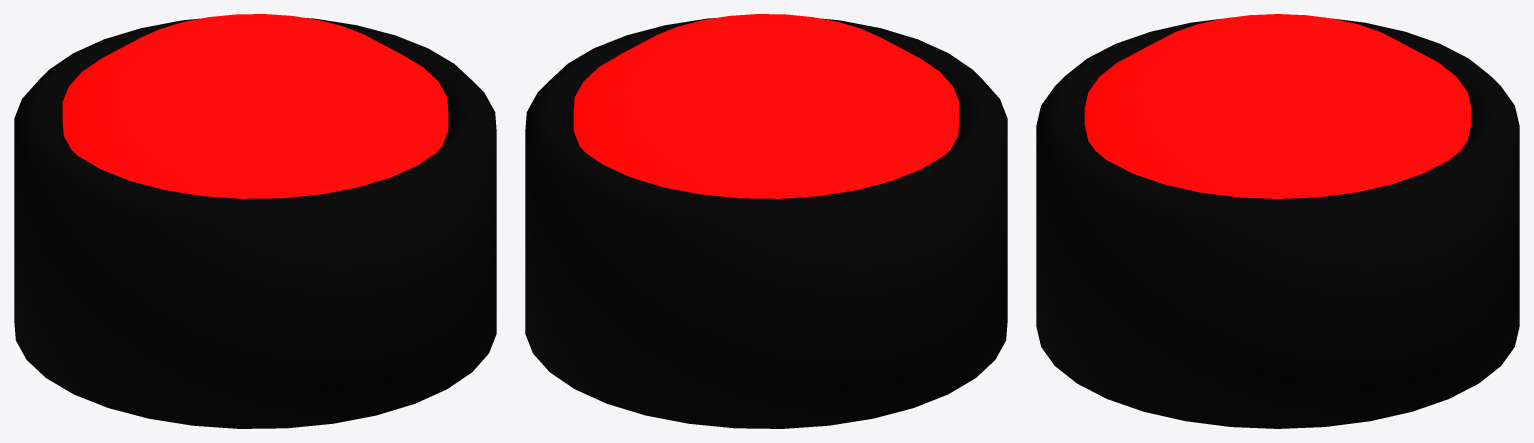
Rendered from button.glb.
The picture shows the model from 3 angles, left to right: view 1: azimuth 30°, elevation 25°; view 2: azimuth 150°, elevation 25°; view 3: azimuth 270°, elevation 25°; orthographic projection.
Parts seen in each view (by area): view 1: Button, Cylinder; view 2: Button, Cylinder; view 3: Button, Cylinder.
Boxes of the visible parts, box(x1,y1,x2,y2) form: Button: box(14, 18, 496, 428); Cylinder: box(62, 14, 448, 198); Button: box(525, 18, 1007, 428); Cylinder: box(573, 14, 959, 198); Button: box(1036, 18, 1519, 428); Cylinder: box(1084, 14, 1471, 198).
Size of the model in its own units: 0.2 by 0.12 by 0.2.
